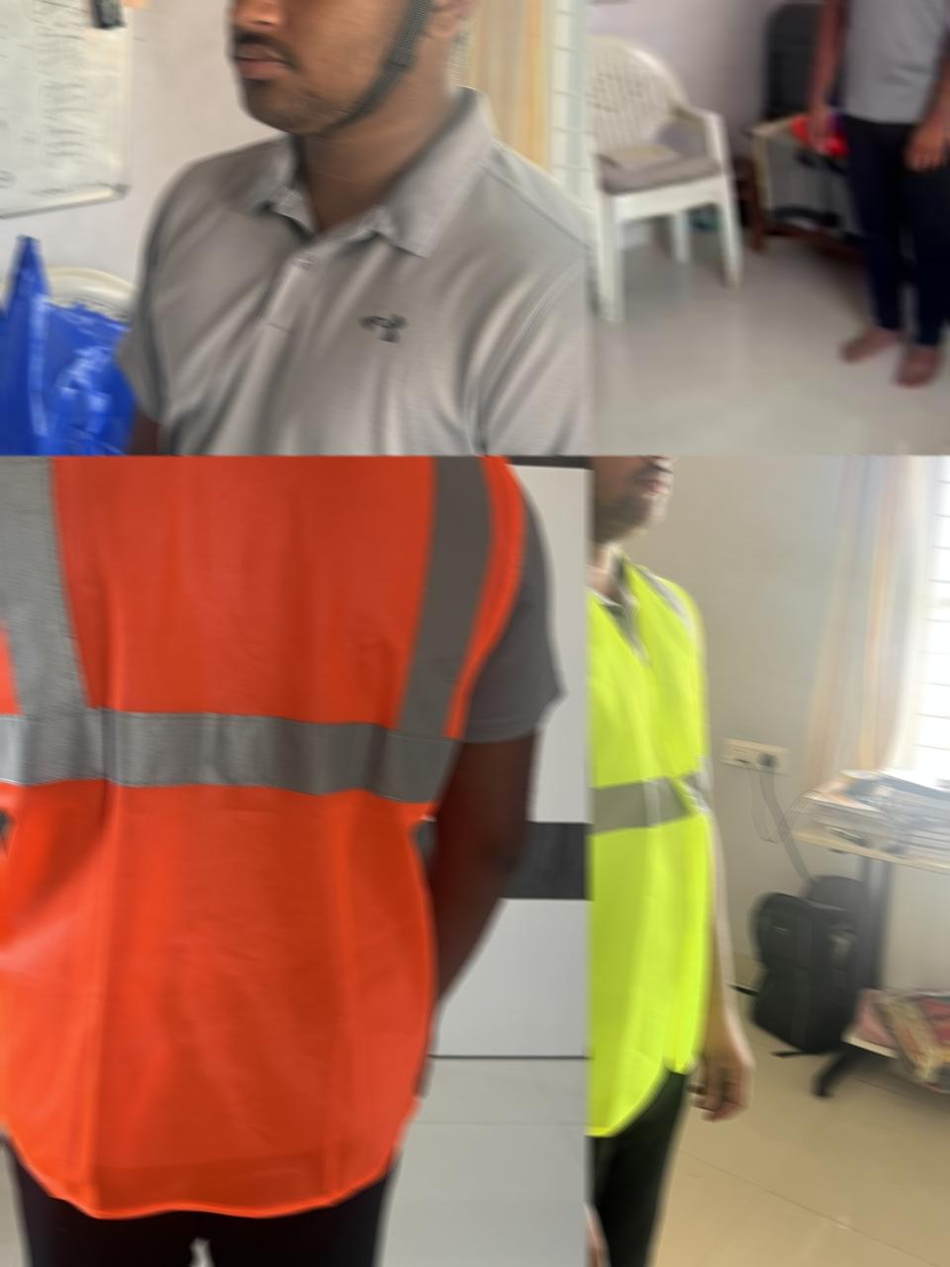Helmet: (154, 0, 521, 135)
No_Vest: (111, 86, 590, 455), (818, 0, 950, 125)
Person: (0, 455, 565, 1267), (86, 0, 590, 455), (587, 455, 749, 1267), (804, 0, 950, 389)
Vest: (0, 455, 525, 1218), (587, 510, 714, 1142)
